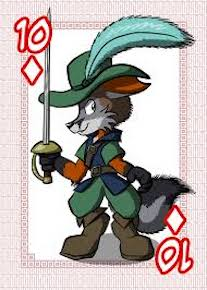TenOfDiamonds: (9, 4, 200, 279)
